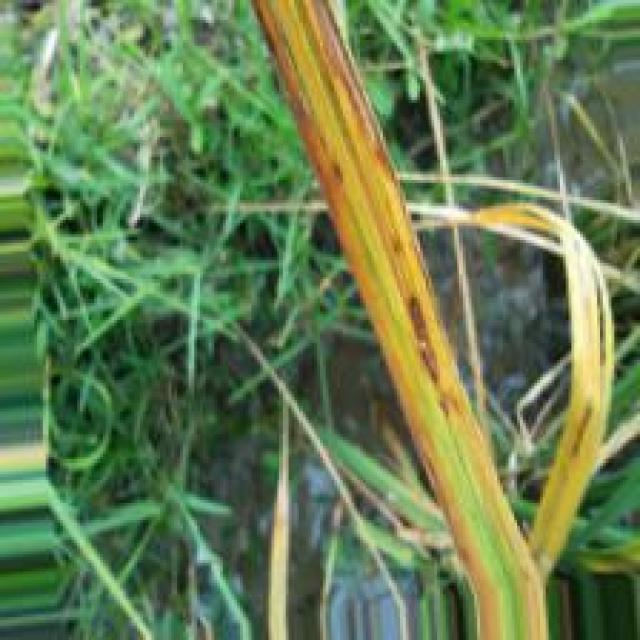Bacterial_Leaf_Blight: (293, 1, 538, 582), (252, 0, 490, 587)
